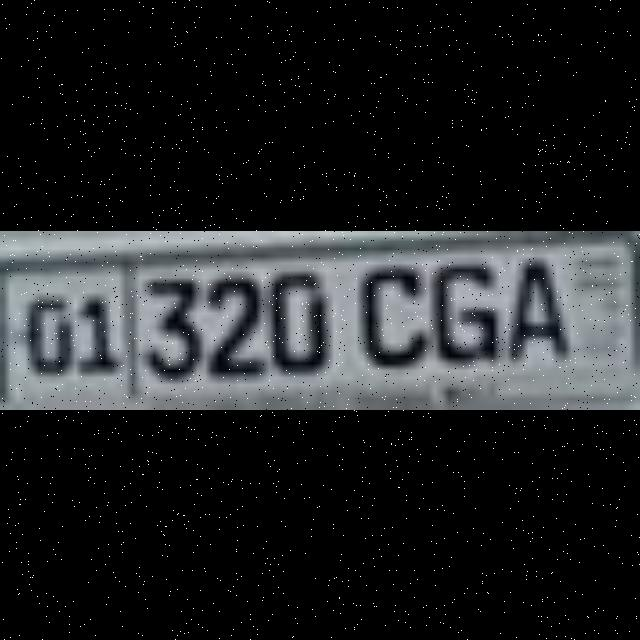0: (266, 266, 324, 366), (22, 288, 64, 367)
1: (65, 288, 115, 367)
2: (201, 266, 259, 374)
3: (136, 266, 194, 374)
A: (496, 252, 562, 360)
C: (352, 258, 418, 359)
G: (424, 252, 490, 360)
